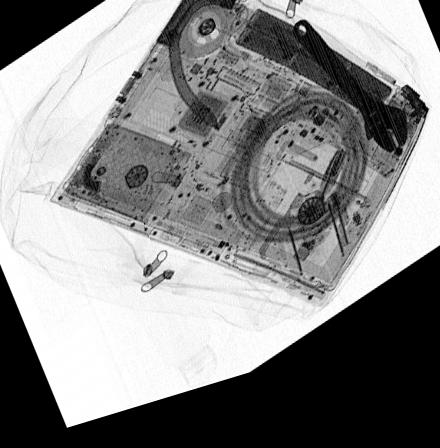Wrench: (292, 37, 408, 178)
